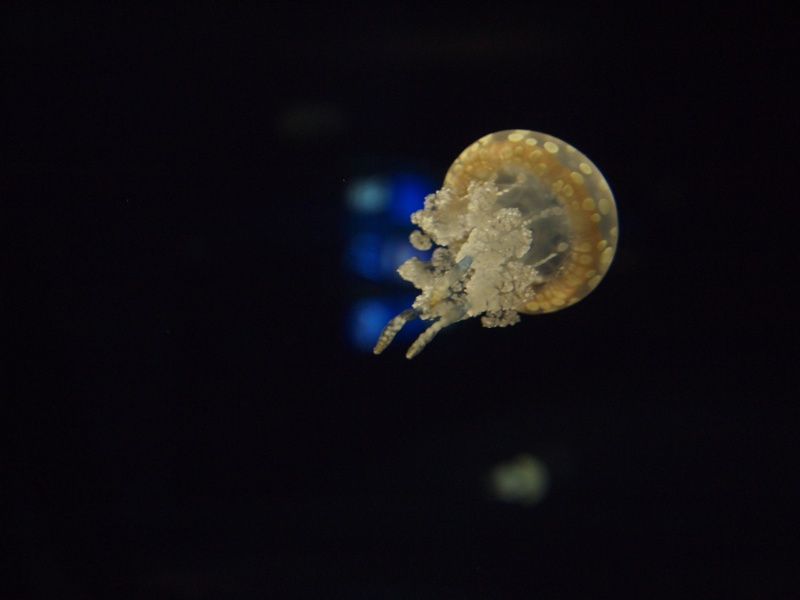Jellyfish: (369, 126, 618, 362)
